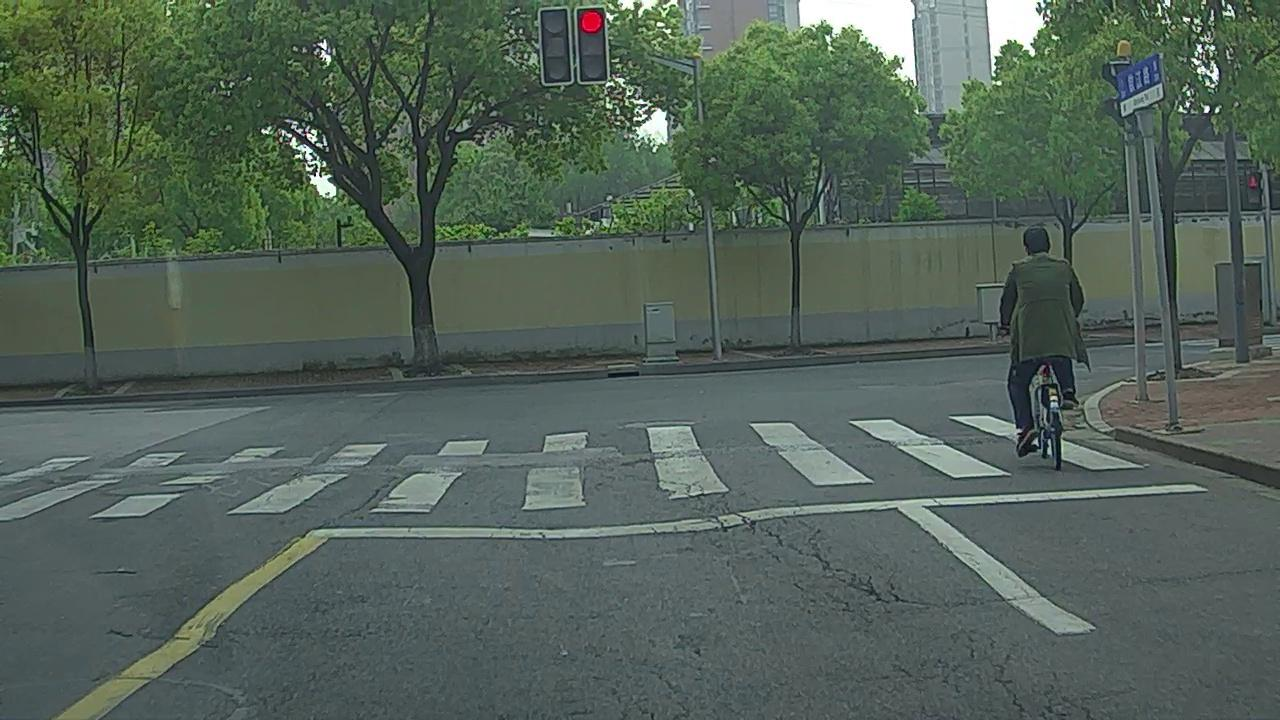traffic_light: (577, 6, 608, 86), (541, 10, 572, 79)
